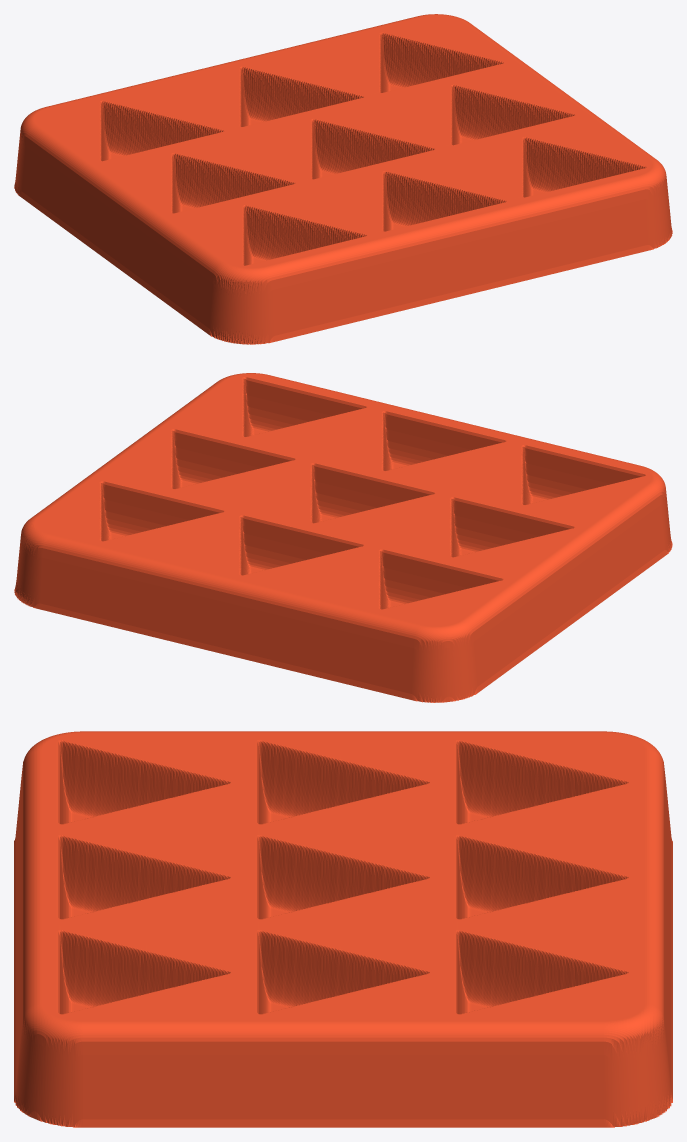
The model's file is mold.glb.
3 views of the same model, one above another, from view 1: azimuth 30°, elevation 25°; view 2: azimuth 150°, elevation 25°; view 3: azimuth 270°, elevation 25° (orthographic). The views are drawn at different scales.
Visible parts, largest first — view 1: geometry_0; view 2: geometry_0; view 3: geometry_0.
Part boxes in pixels (x1,y1,x2,y2): geometry_0: [14, 14, 672, 344]; geometry_0: [14, 373, 672, 702]; geometry_0: [14, 731, 672, 1127].
Size of the model in its own units: 0.0964 by 0.0136 by 0.0862.
